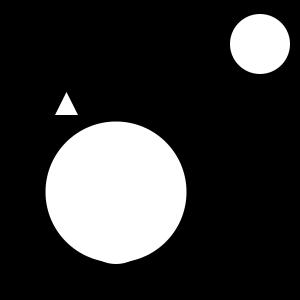rectangle: (46, 122, 186, 262), (80, 192, 152, 264), (230, 14, 290, 74)
triangle: (55, 92, 78, 115)
